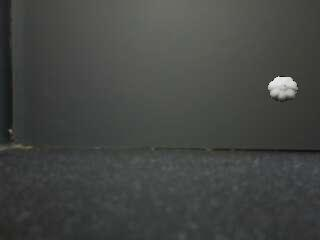Garlic: (268, 76, 299, 102)
